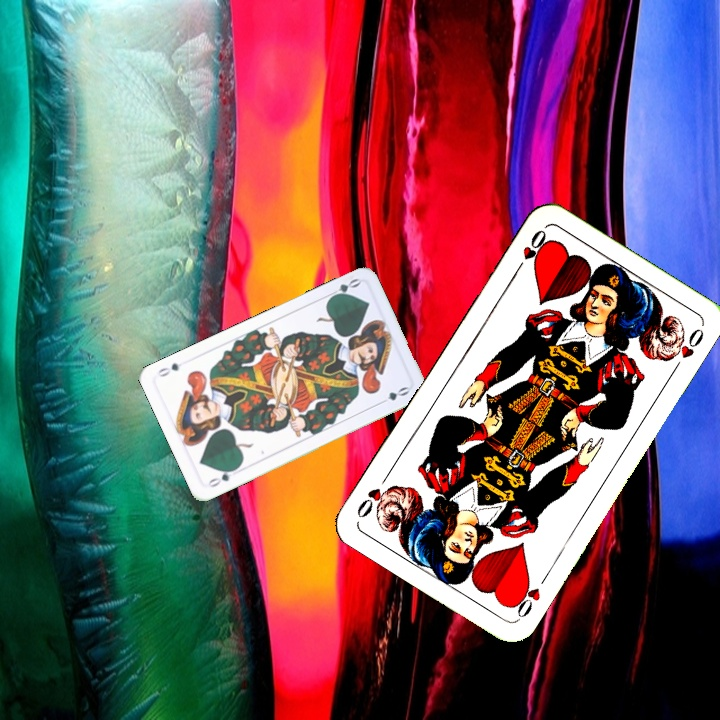GO: (323, 274, 363, 302), (203, 463, 240, 490)
HO: (507, 569, 552, 622), (510, 225, 549, 277)
